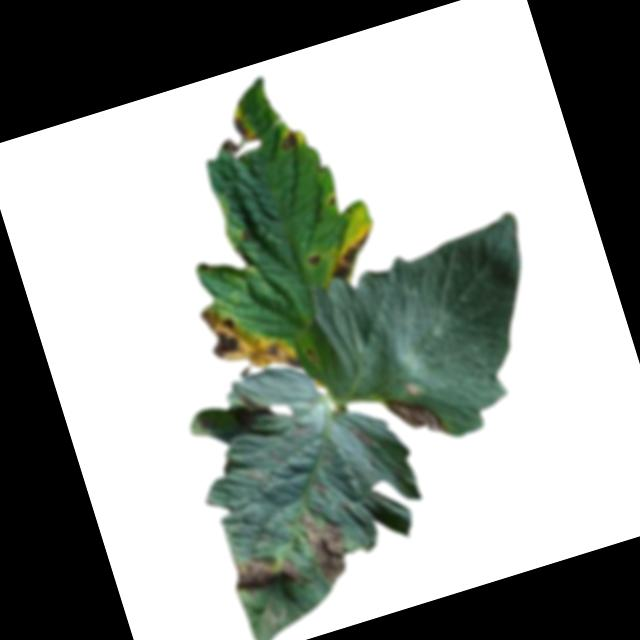Early_blight: (199, 283, 311, 392), (295, 499, 357, 587), (226, 537, 310, 601), (381, 379, 453, 452), (320, 226, 388, 283), (212, 111, 257, 157), (275, 125, 304, 153), (305, 247, 324, 266)
